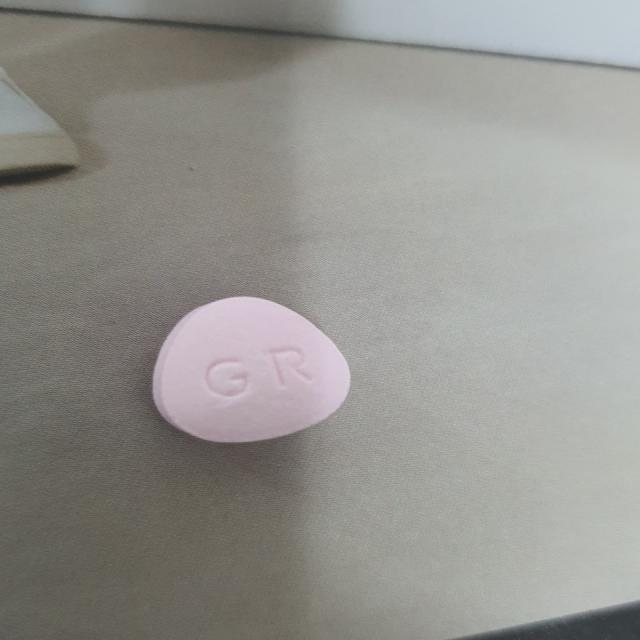pill: (134, 287, 372, 459)
